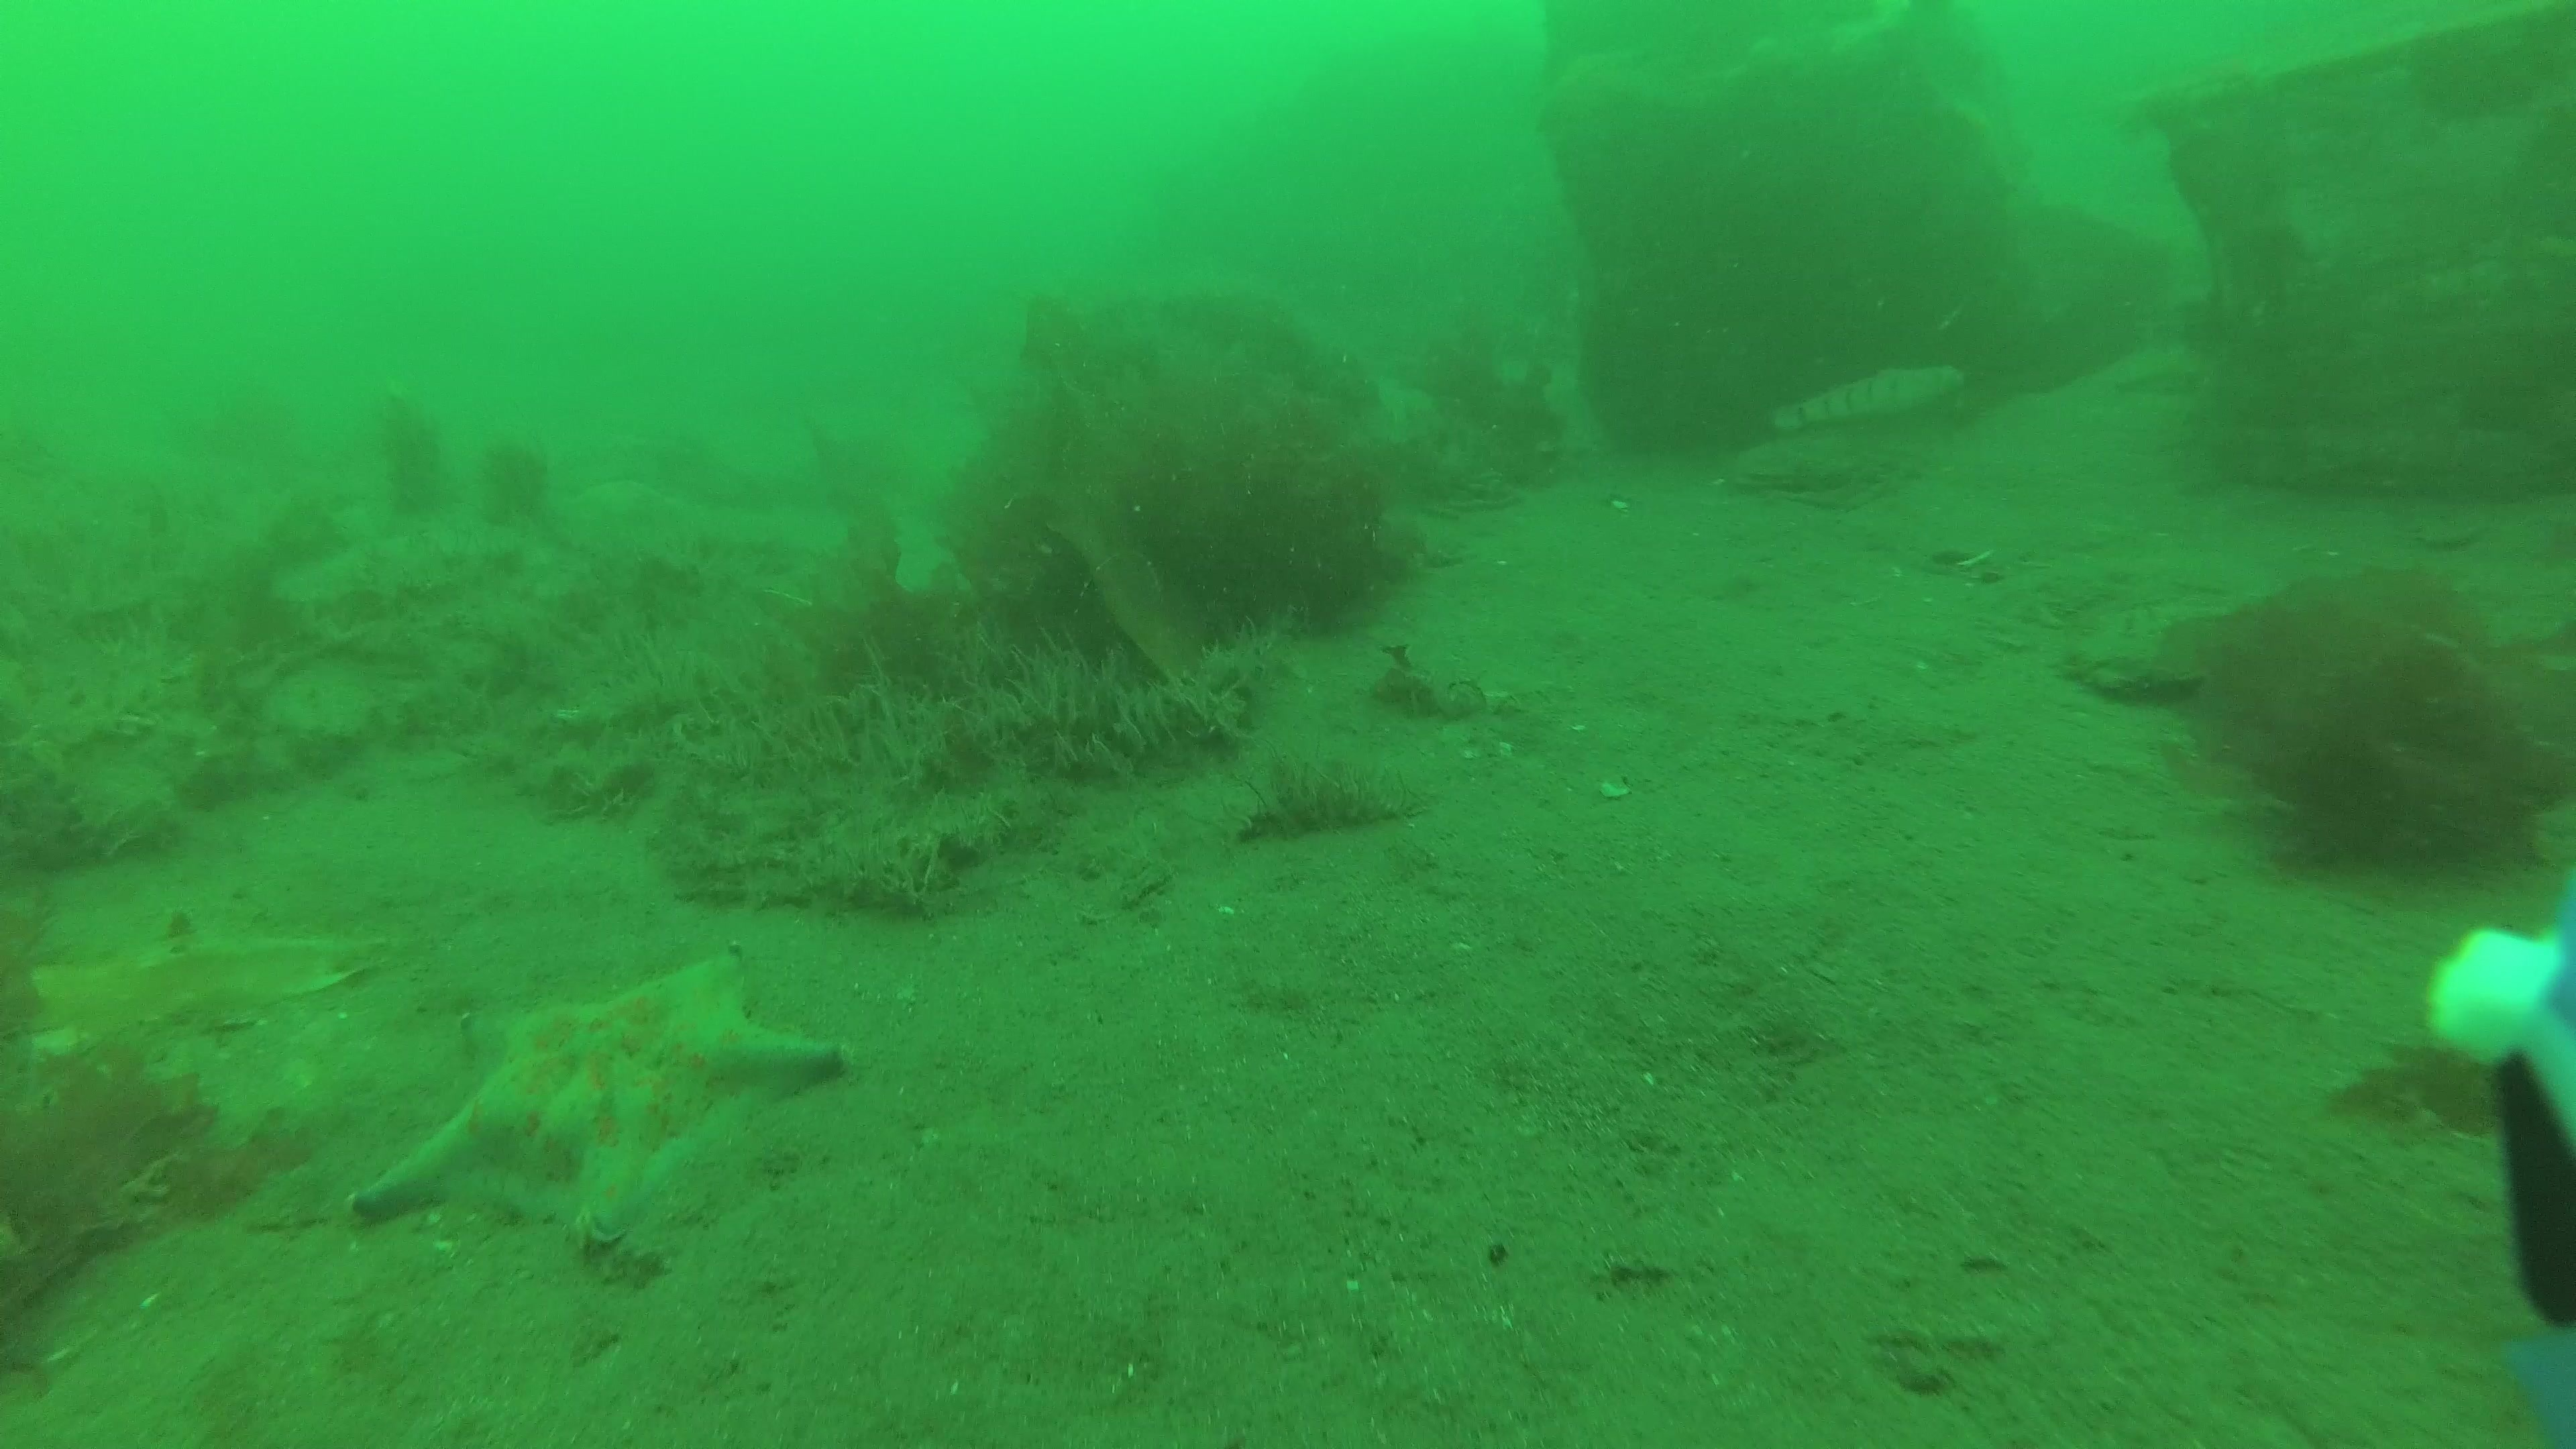scallop: (1718, 423, 1895, 518)
starfish: (350, 950, 851, 1256)
